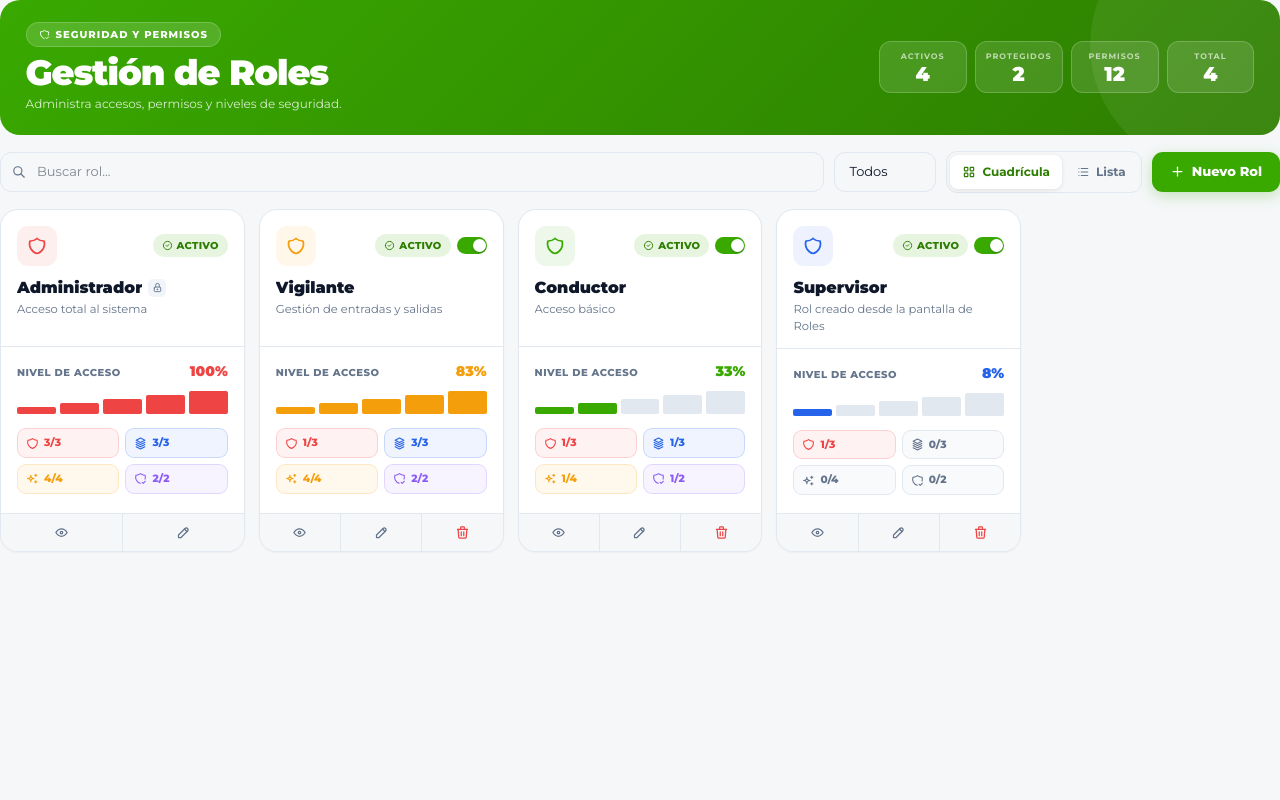
Scenario: Roles › guarda los permisos desmarcados al editar el rol
Expected: the heading "Administrador" is shown, [17,278,142,297]
Click the button named "Ver detalle de Administrador" at (61, 533), box [1,514,122,551]
(page scrolled)
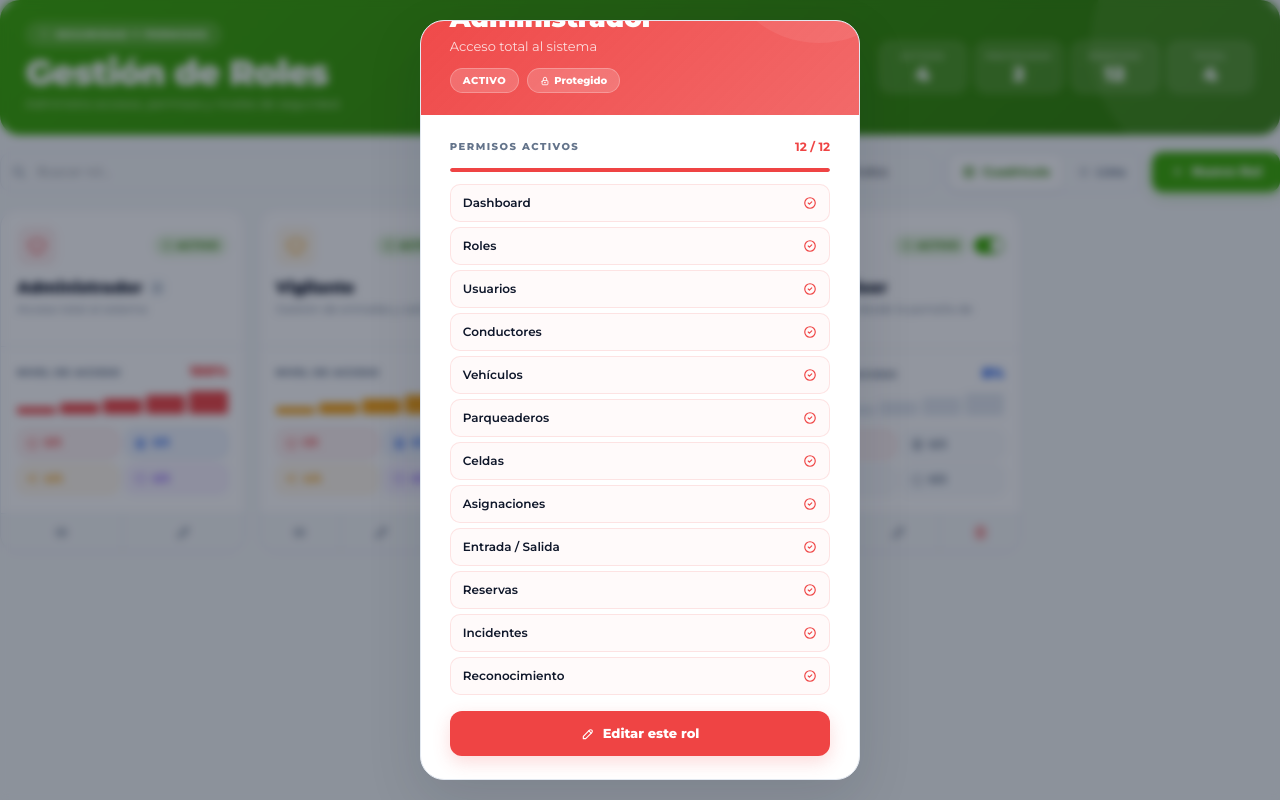
Click the button "Editar este rol" at (640, 734), box [450,711,830,756]
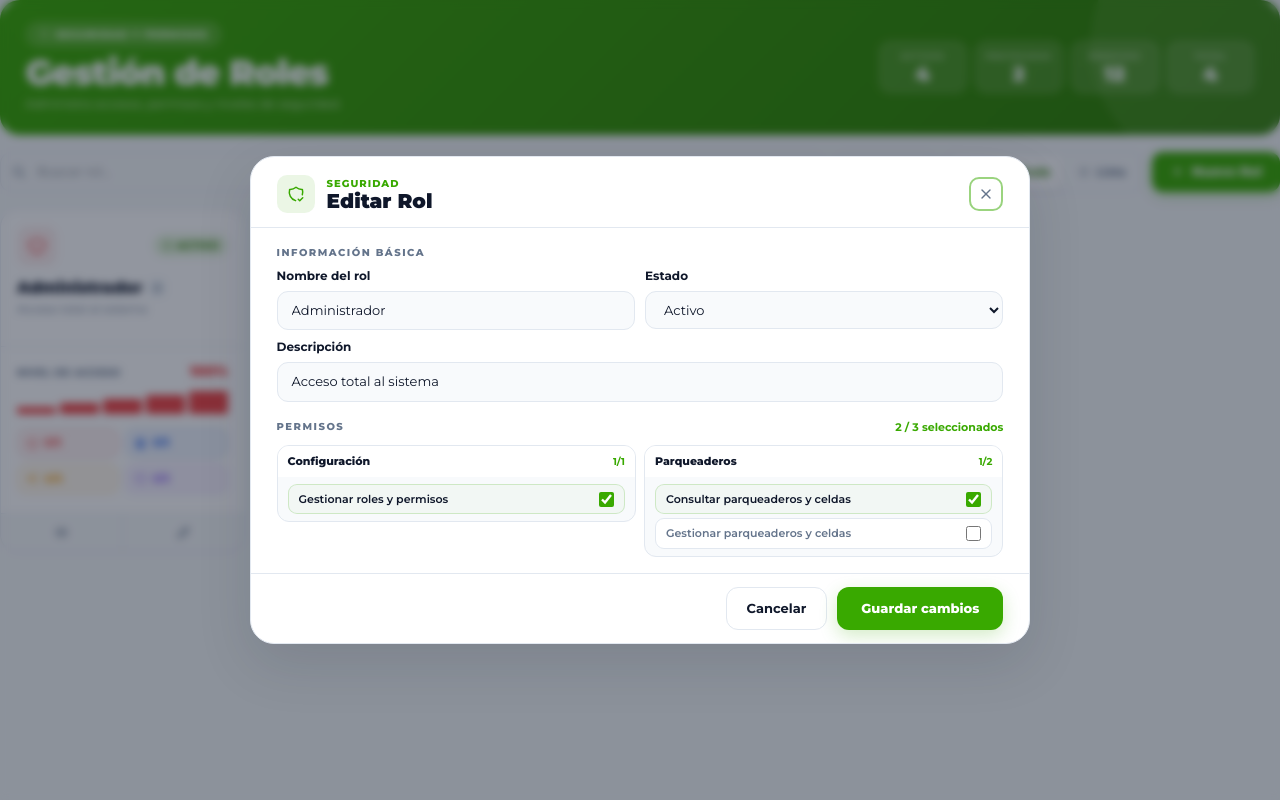
Expected: the heading "Editar Rol" is shown, [327,191,432,211]
Expected: the text "2 / 3 seleccionados" is shown, [895,419,1003,435]
# Se quita un permiso y se guarda: debe persistirse (DELETE sobre rol_permiso).
Click the checkbox labelled "Gestionar roles y permisos" at (606, 499), box [599,492,614,507]
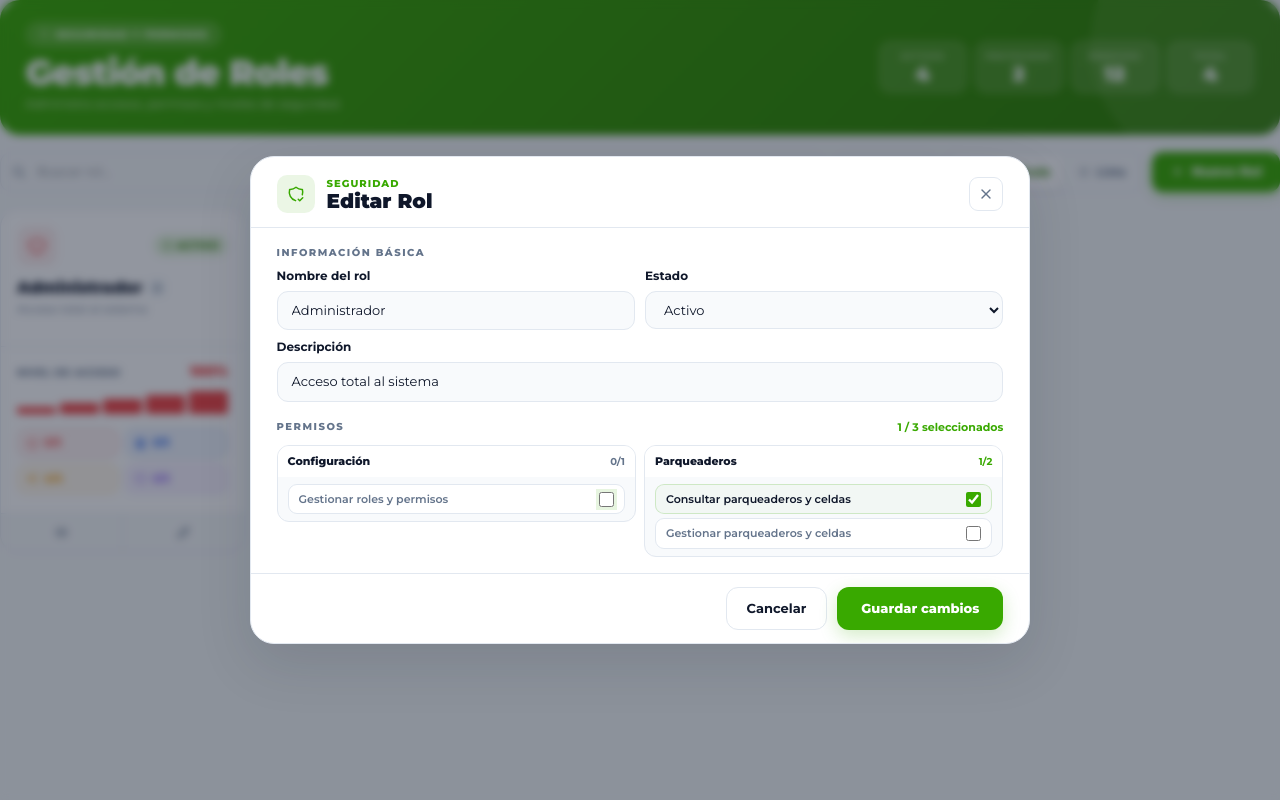
Click the button "Guardar cambios" at (920, 609), box [837,587,1003,630]
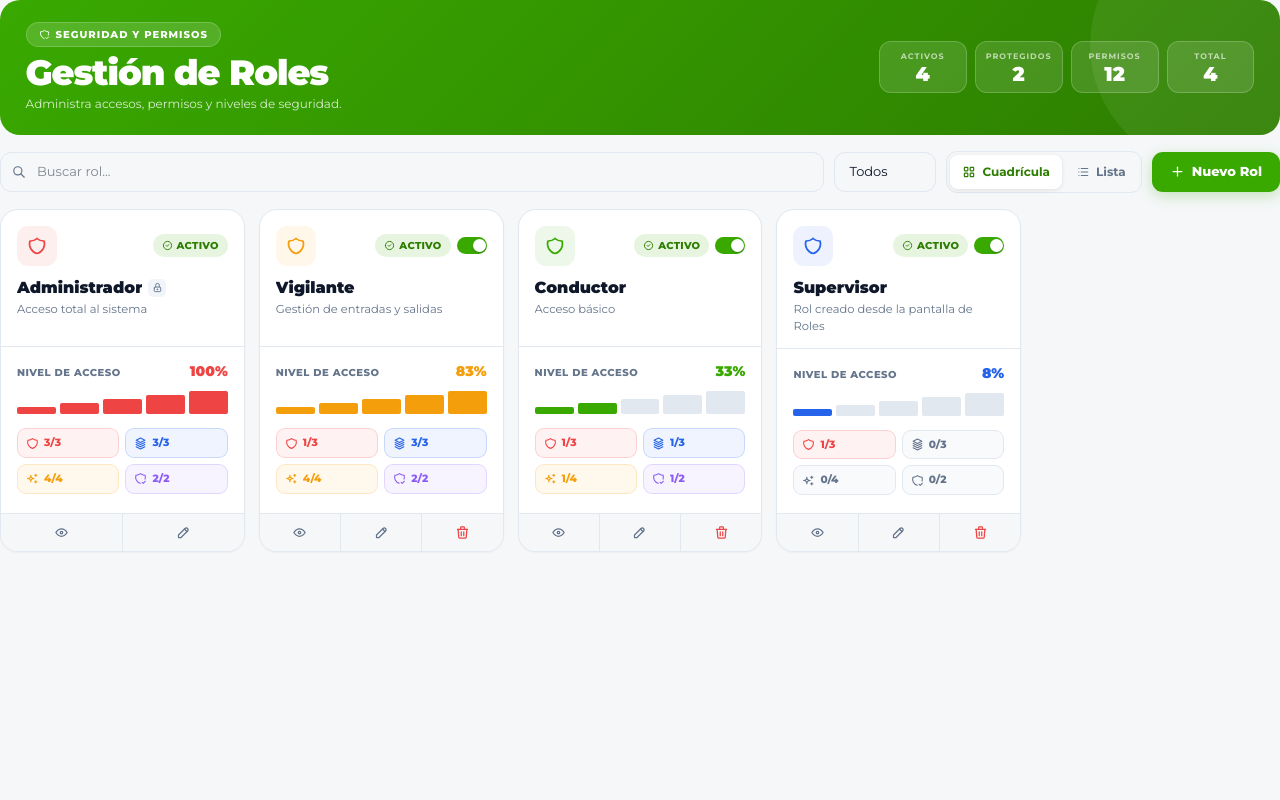
Expected: the heading "Editar Rol" is gone
# Al reabrir, el backend ya devuelve solo el permiso que quedó.
Click the button named "Ver detalle de Administrador" at (61, 533), box [1,514,122,551]
(page scrolled)
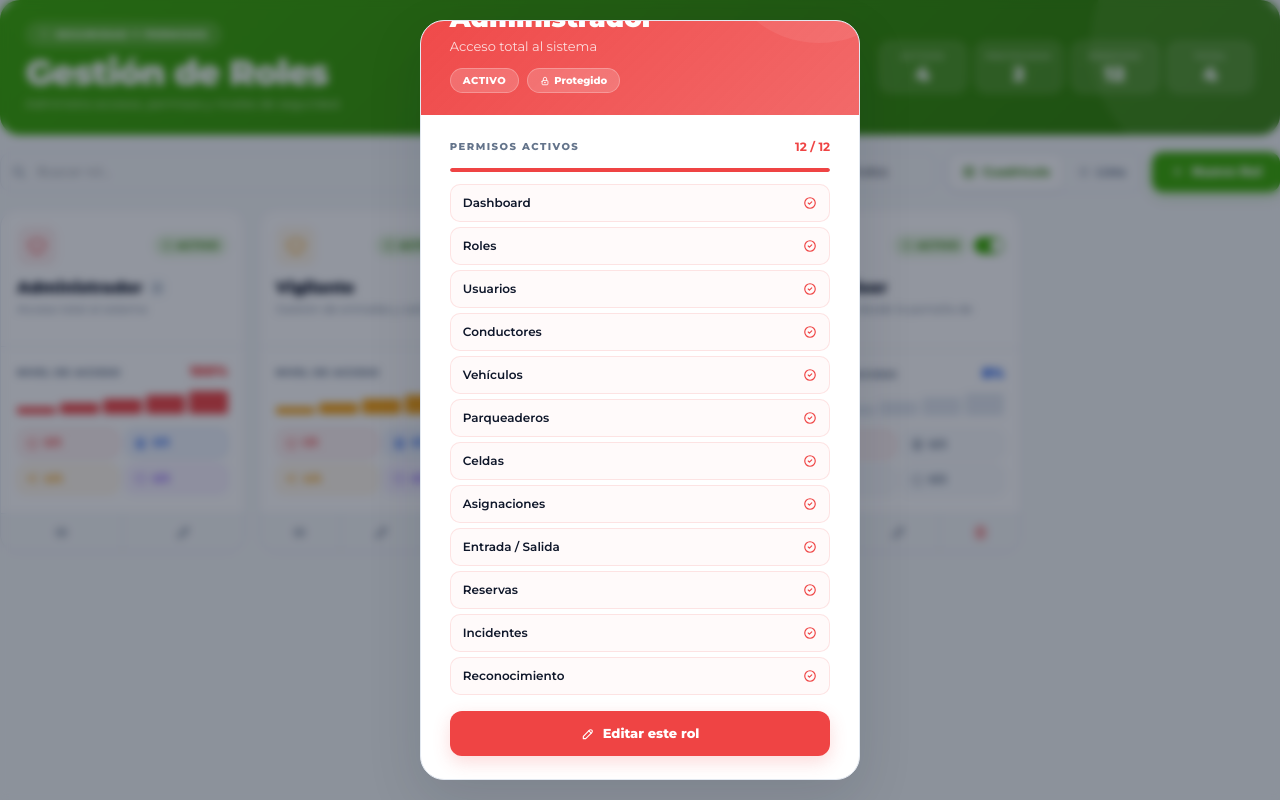
Click the button "Editar este rol" at (640, 734), box [450,711,830,756]
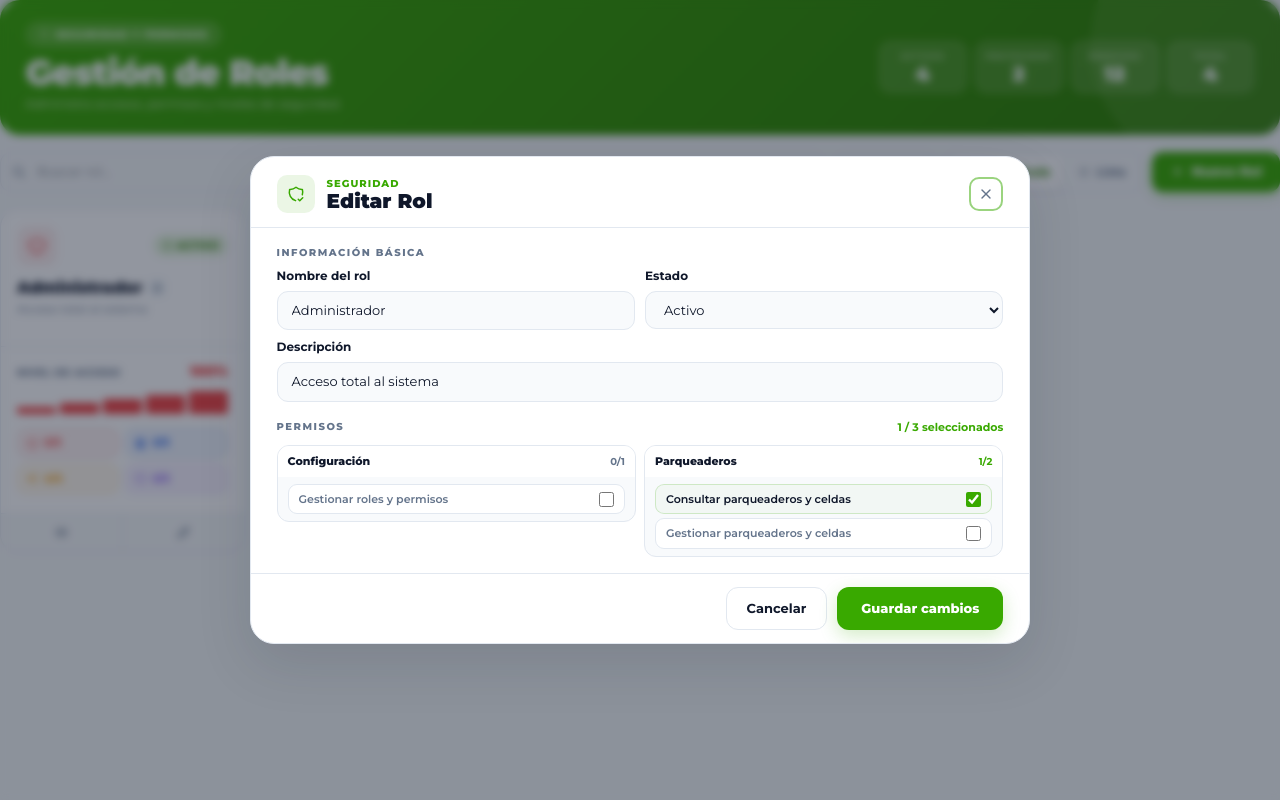
Expected: the text "1 / 3 seleccionados" is shown, [897,419,1003,435]
